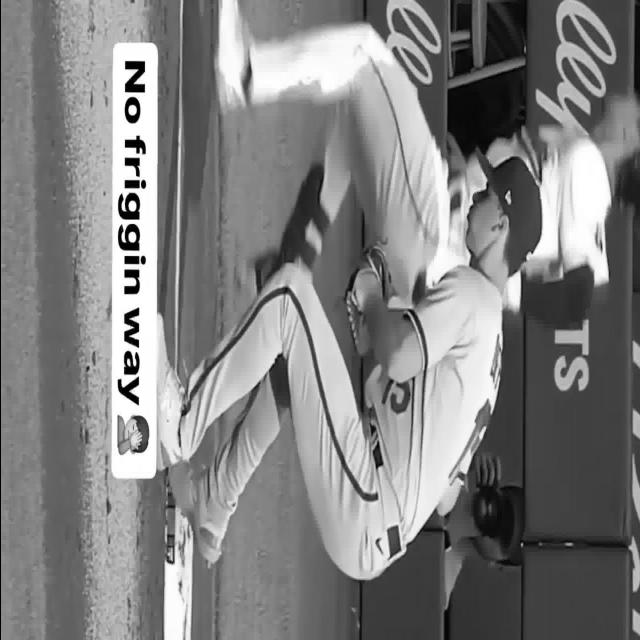base: (162, 493, 192, 640)
baseball_glove: (362, 242, 390, 302), (345, 264, 362, 313), (349, 317, 369, 356)
shoe: (168, 460, 229, 565), (156, 313, 184, 471), (214, 0, 250, 111)
